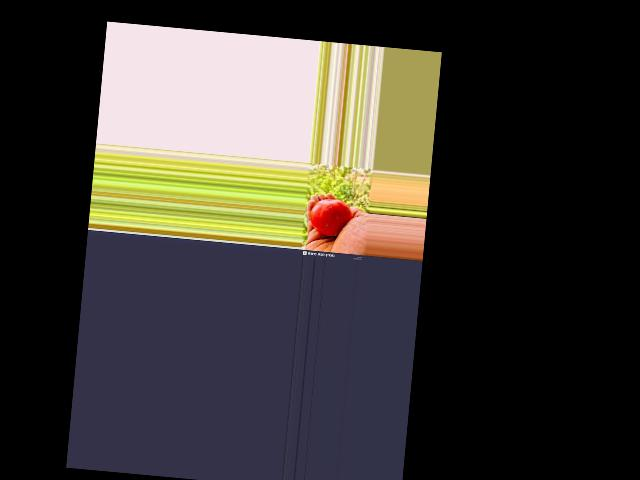tomato: (309, 197, 353, 237)
